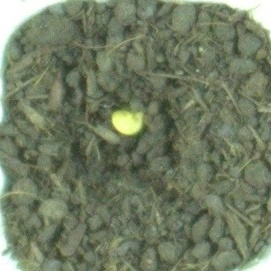pepper seed: (36, 38, 185, 176)
